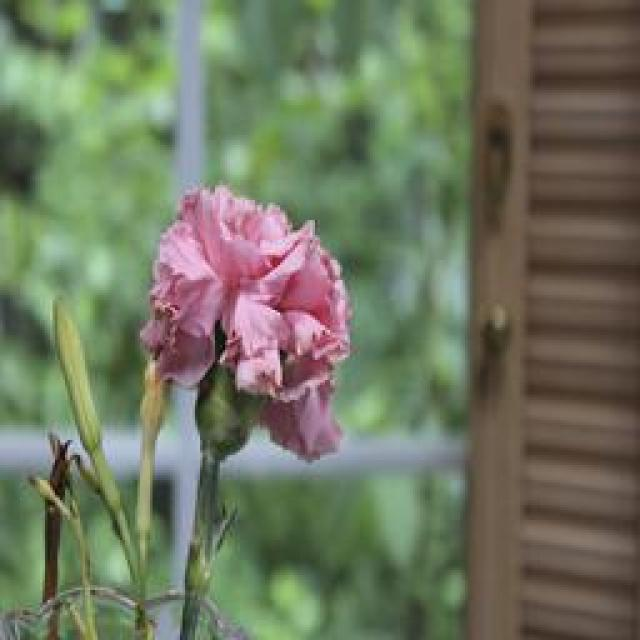carnation: (138, 172, 362, 454)
